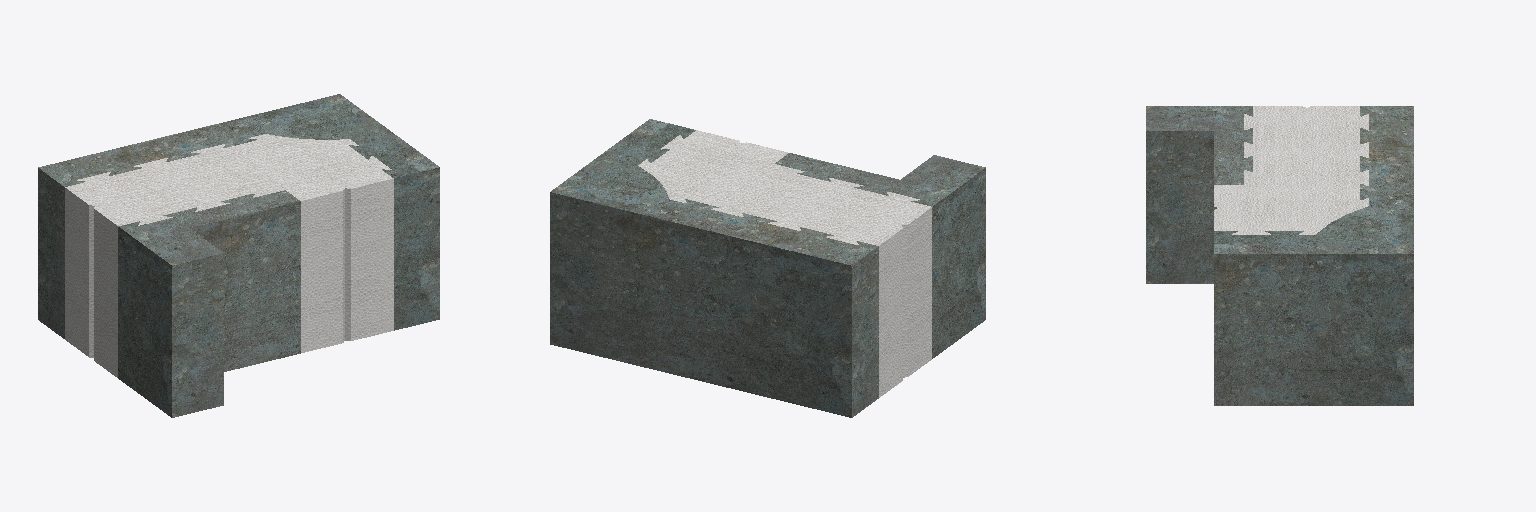
3 renders of one model, left to right at view 1: azimuth 30°, elevation 25°; view 2: azimuth 150°, elevation 25°; view 3: azimuth 270°, elevation 25°, orthographic.
Parts seen in each view (by area): view 1: MassElem__Standard__Body, Layer_0; view 2: MassElem__Standard__Body, Layer_0; view 3: MassElem__Standard__Body, Layer_0.
Boxes of the visible parts, <box> form: MassElem__Standard__Body: <box>38,94,439,417</box>; Layer_0: <box>65,134,393,377</box>; MassElem__Standard__Body: <box>550,119,985,417</box>; Layer_0: <box>638,130,931,397</box>; MassElem__Standard__Body: <box>1146,106,1413,405</box>; Layer_0: <box>1214,106,1368,234</box>.
Bounding box in the file's own units: 390 × 188 × 300.
2 materials, 2 textured.